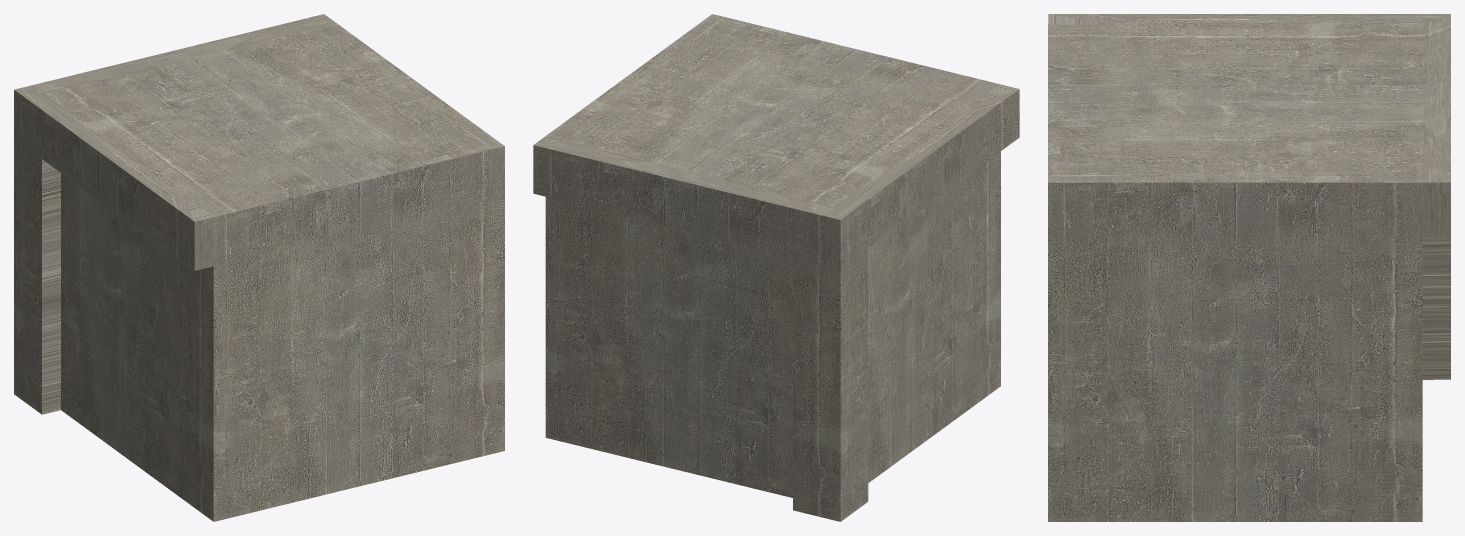
The model's file is leftCornerBlock.FBX.
The picture shows the model from 3 angles, left to right: view 1: azimuth 30°, elevation 25°; view 2: azimuth 150°, elevation 25°; view 3: azimuth 270°, elevation 25°; orthographic projection. The views are drawn at different scales.
Parts seen in each view (by area): view 1: Box05; view 2: Box05; view 3: Box05.
Boxes of the visible parts, box(x1,y1,x2,y2) form: Box05: box(14, 14, 504, 521); Box05: box(533, 14, 1019, 521); Box05: box(1048, 14, 1450, 521).
Bounding box in the file's own units: 63.91 × 60 × 64.51.
Materials: 1 (1 with a texture image).
